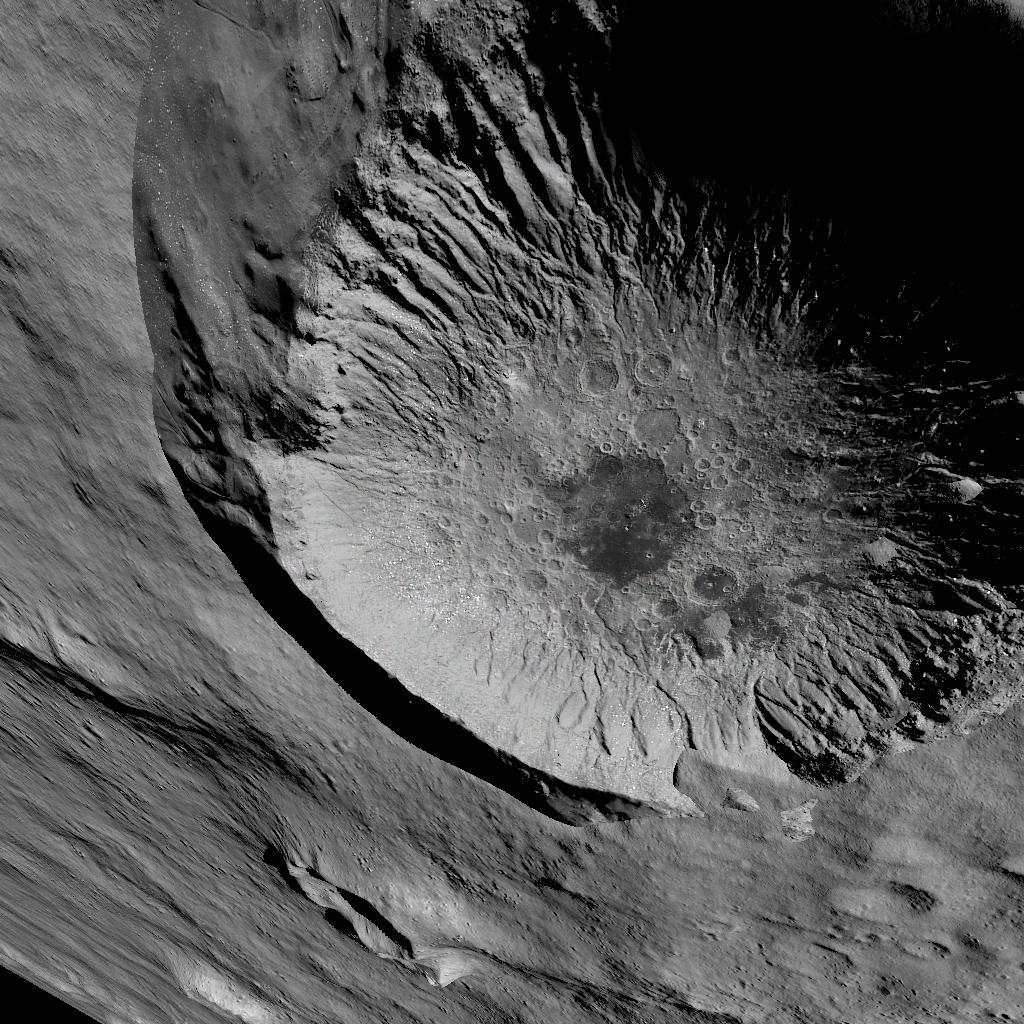Crater: (112, 2, 1023, 834), (264, 845, 418, 984)
Plan surface: (478, 864, 1022, 1024)
